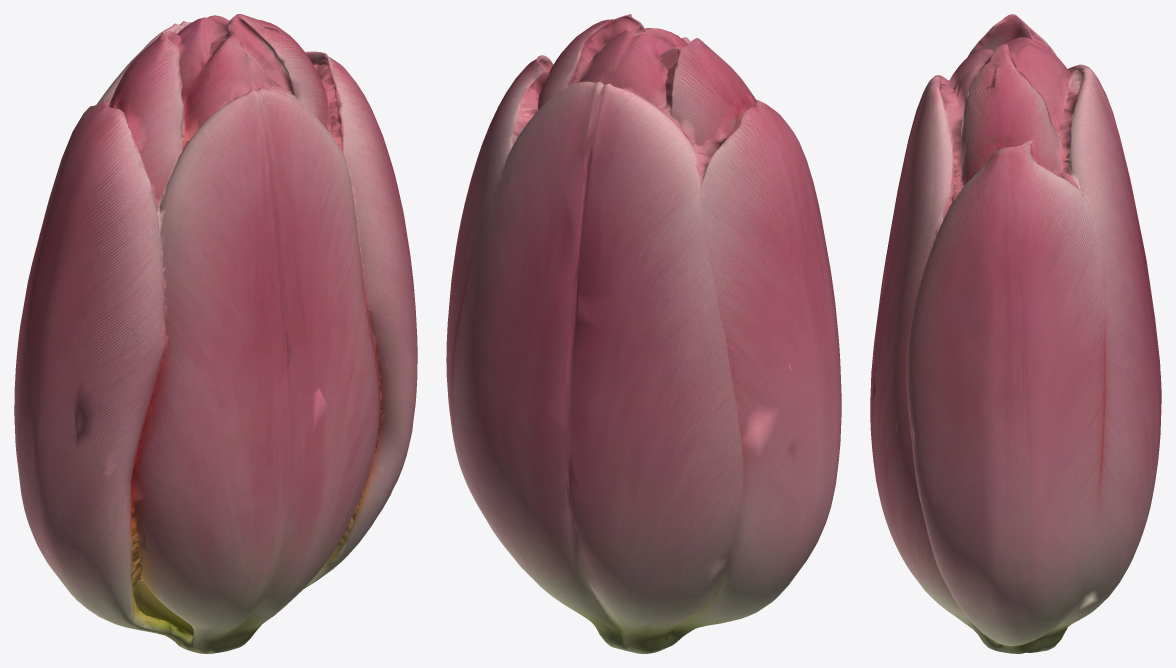
The model's file is fl-flower-tulip.glb.
3 views of the same model, side by side, from view 1: azimuth 30°, elevation 25°; view 2: azimuth 150°, elevation 25°; view 3: azimuth 270°, elevation 25° (orthographic). The views are drawn at different scales.
Visible parts, largest first — view 1: node_0; view 2: node_0; view 3: node_0.
Boxes of the visible parts, box(x1,y1,x2,y2) form: node_0: box(14, 14, 417, 653); node_0: box(446, 14, 841, 653); node_0: box(870, 14, 1161, 653).
Bounding box in the file's own units: 0.7558 × 1.19 × 0.5192.
Materials: 1 (1 with a texture image).
